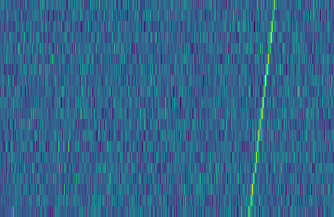signal: (246, 0, 282, 217)
